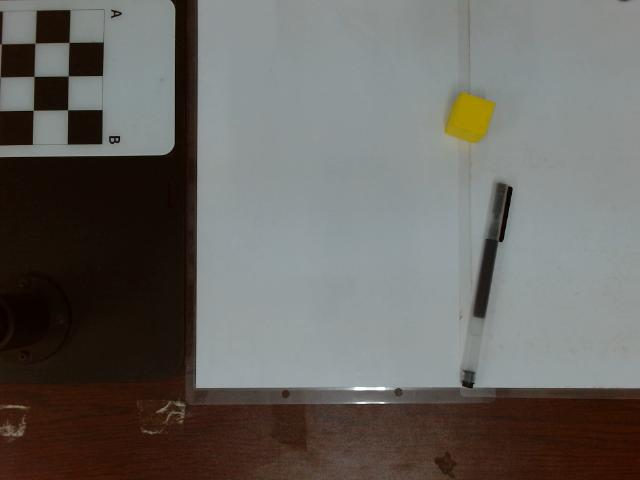PEN: (456, 181, 514, 389)
